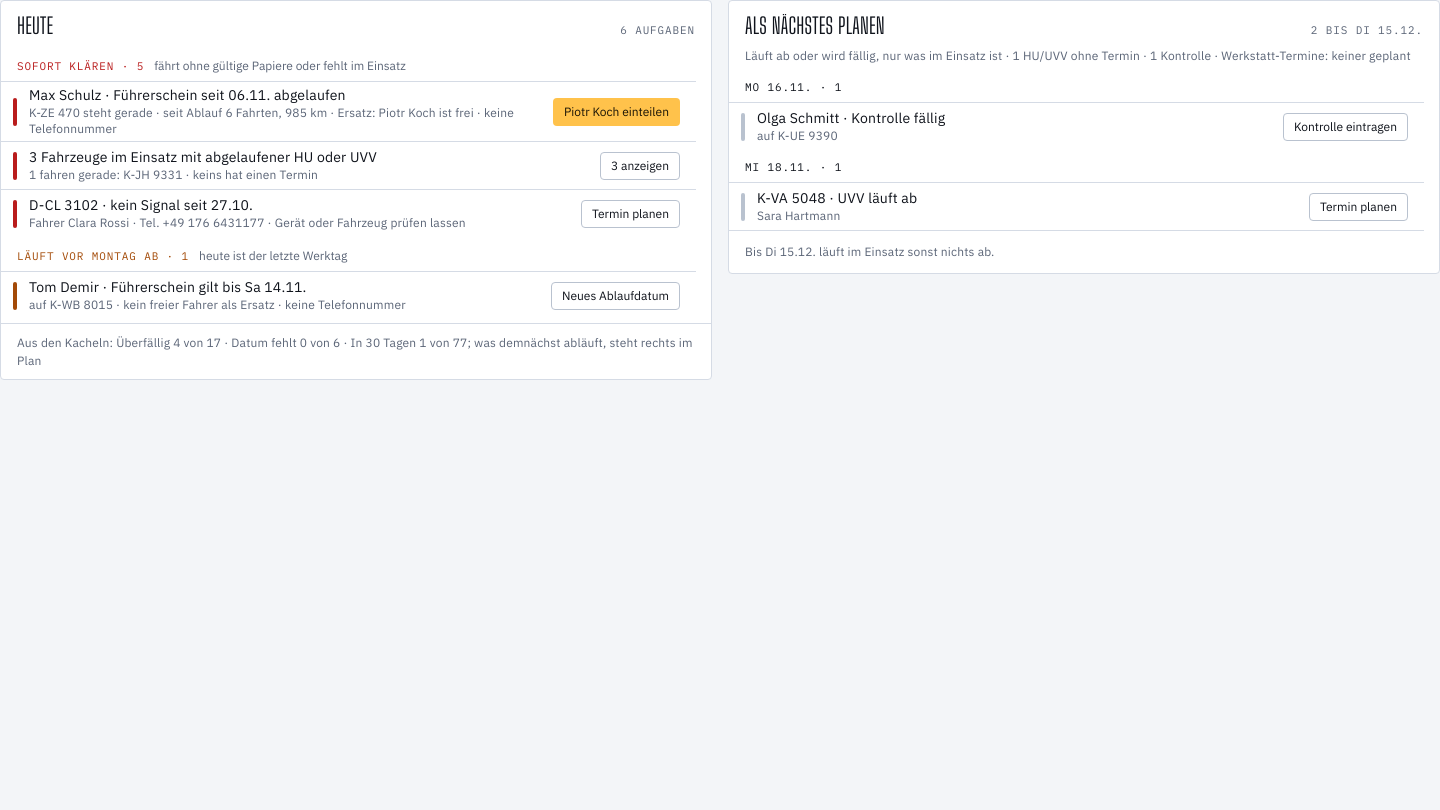
Test: Schicht: Heute › names who drove without a licence and offers the free replacement as the one filled button
The image size is (1440, 810).
Check: the text "seit Ablauf 6 Fahrten, 985 km" is shown, box x1=29 y1=105 x2=514 y2=136
Click the button "Piotr Koch einteilen". click: (616, 112)
box: x1=553 y1=98 x2=680 y2=126
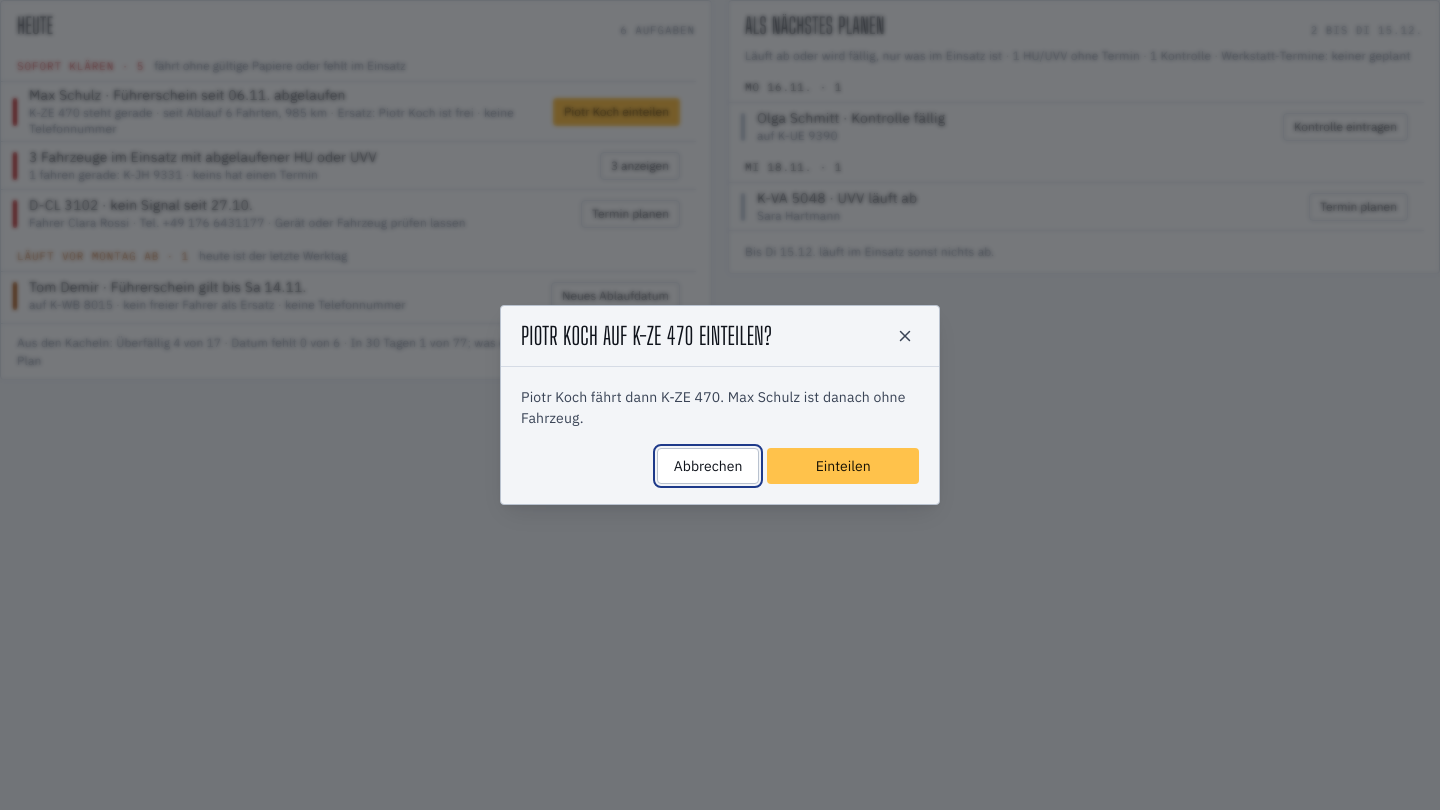
Check: the heading "Piotr Koch auf K-ZE 470 einteilen?" is shown, box x1=521 y1=324 x2=772 y2=348
Click the button "Einteilen". click: (843, 466)
box: x1=767 y1=448 x2=919 y2=484
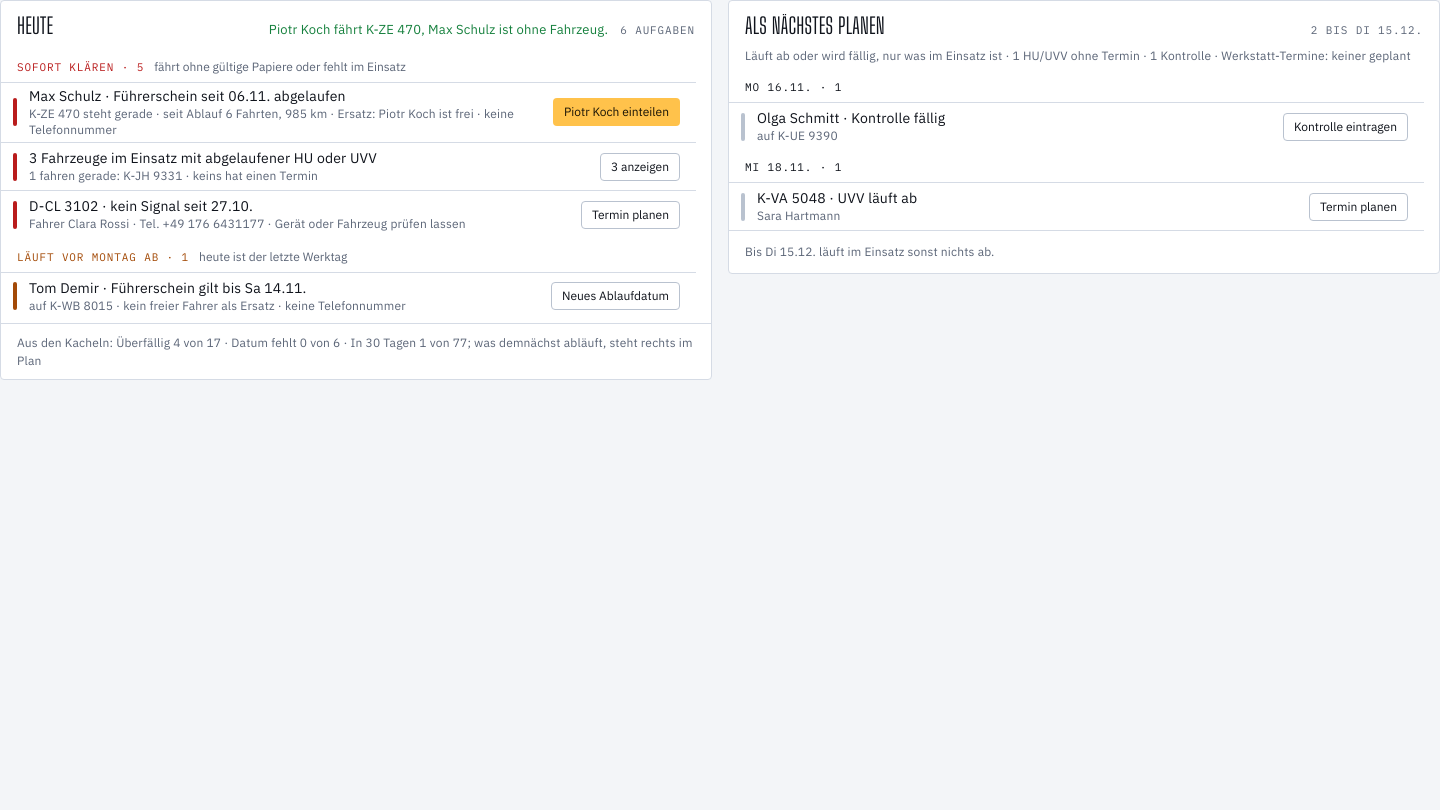
Check: the text "Piotr Koch fährt K-ZE 470, Max Schulz ist ohne Fahrzeug." is shown, box x1=269 y1=21 x2=608 y2=38
